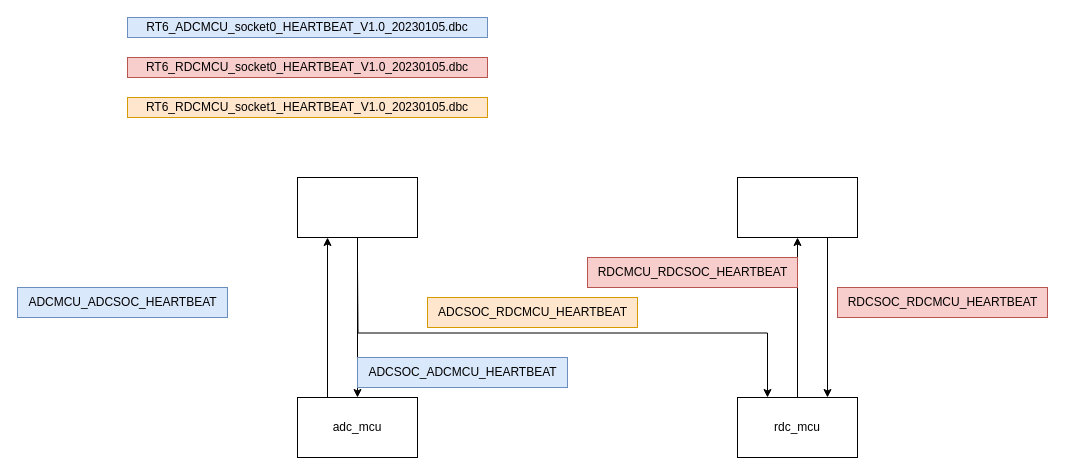
Image size: 1065x475. Some labels were removed from this diagram. The centre of each missing label's shape, as x and y in pixels:
adc_soc: the point at 357,207
rdc_soc: the point at 797,207
